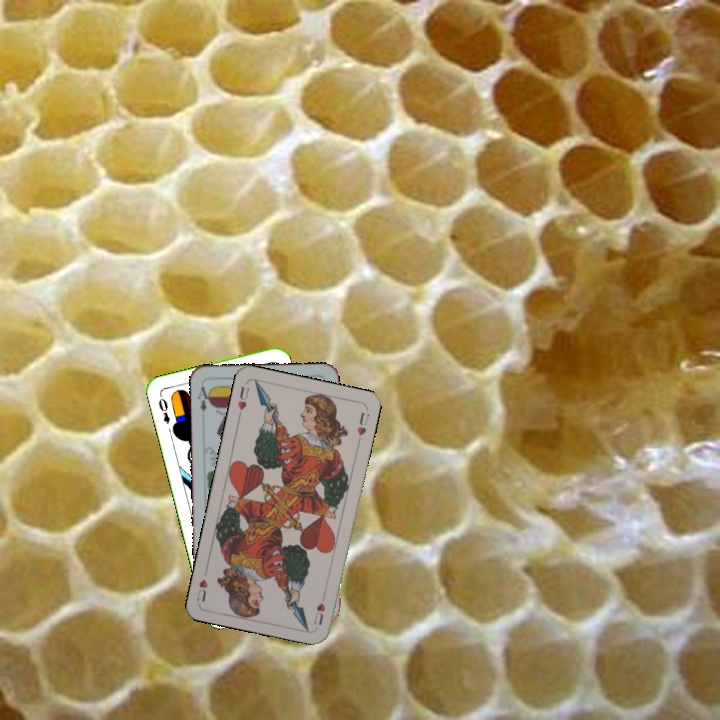EA: (194, 383, 213, 415)
EO: (154, 391, 172, 427)
HU: (234, 382, 252, 420), (310, 589, 328, 627)
